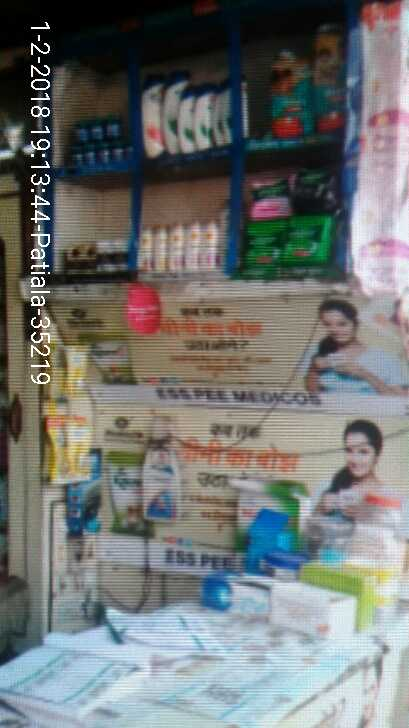vicks: (63, 108, 133, 174)
